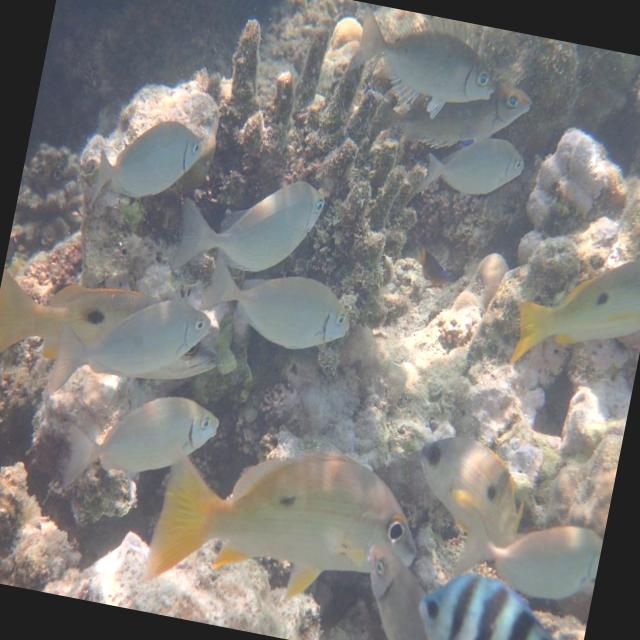Sokar Baligi: (30, 368, 244, 534), (66, 92, 220, 245), (337, 1, 512, 131)
